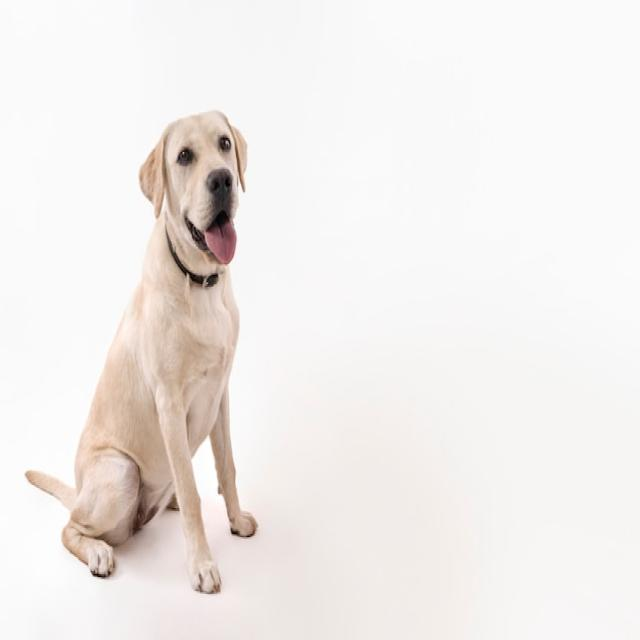Dog: (23, 107, 257, 593)
